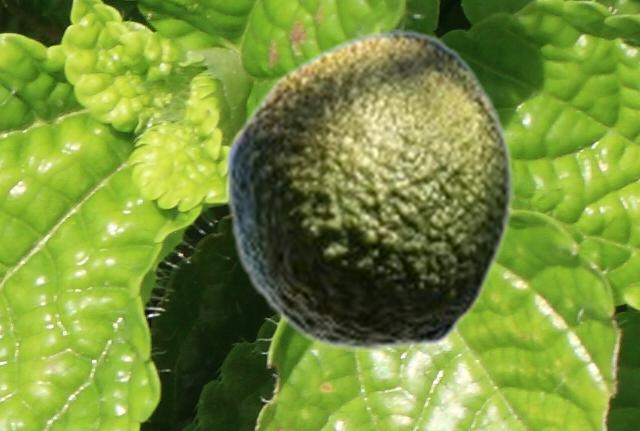avocado: (223, 29, 513, 350)
